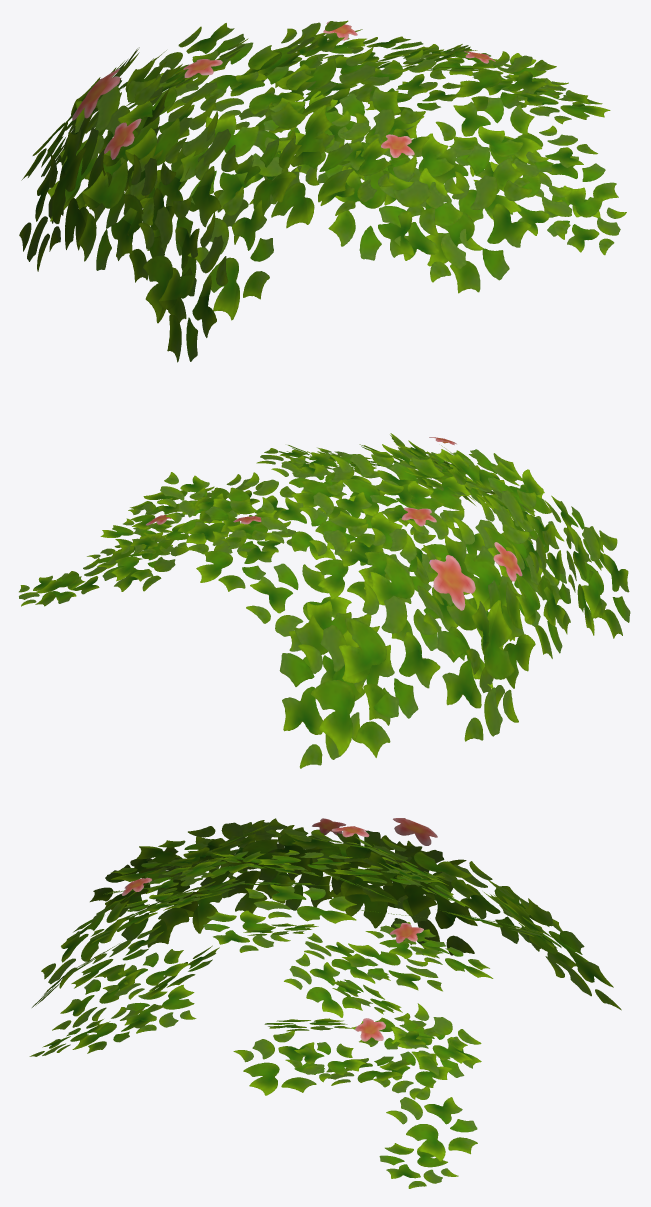
Rendered from P_IvyCoastalCurved02.obj.
3 renders of one model, top to bottom at view 1: azimuth 30°, elevation 25°; view 2: azimuth 150°, elevation 25°; view 3: azimuth 270°, elevation 25°, orthographic. The views are drawn at different scales.
Bounding box in the file's own units: 5.17 × 1.94 × 4.99.
